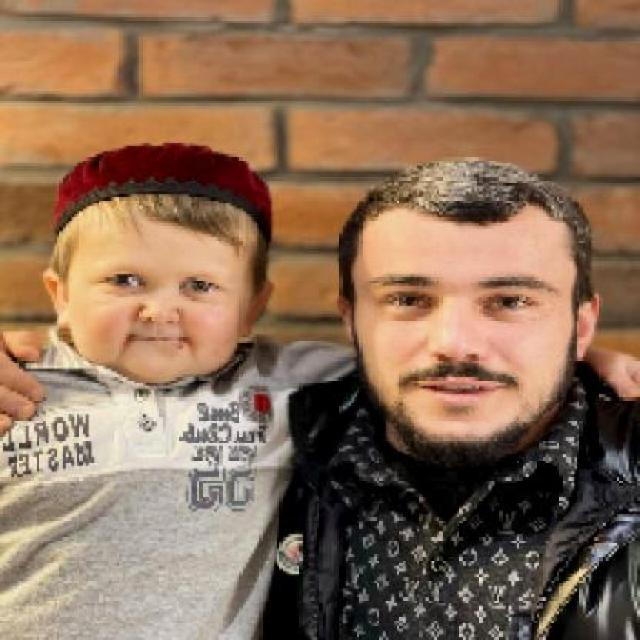child: (2, 142, 352, 638)
